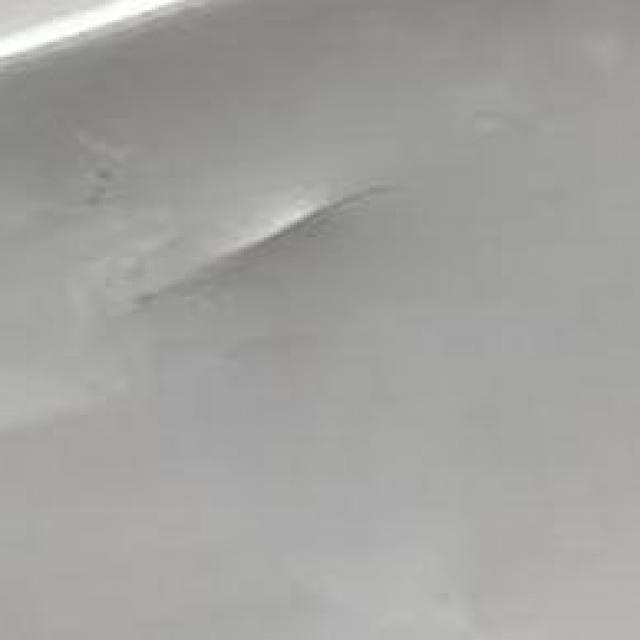dent: (114, 154, 401, 348)
